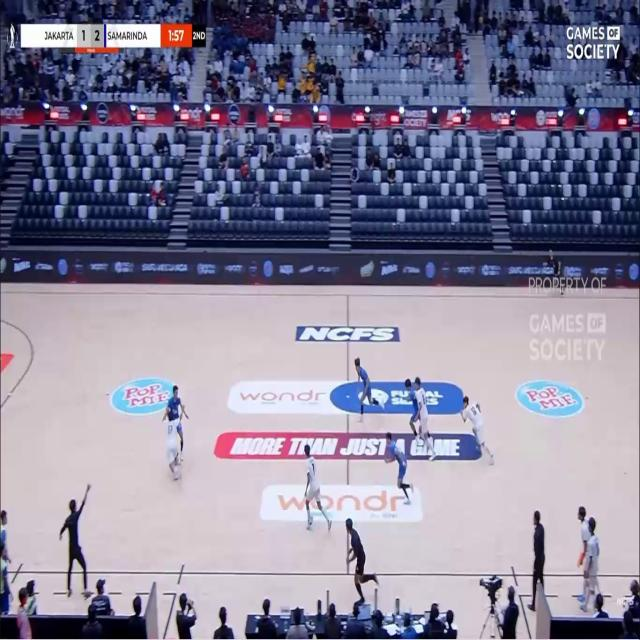referee: (346, 519, 378, 604), (548, 250, 564, 294)
